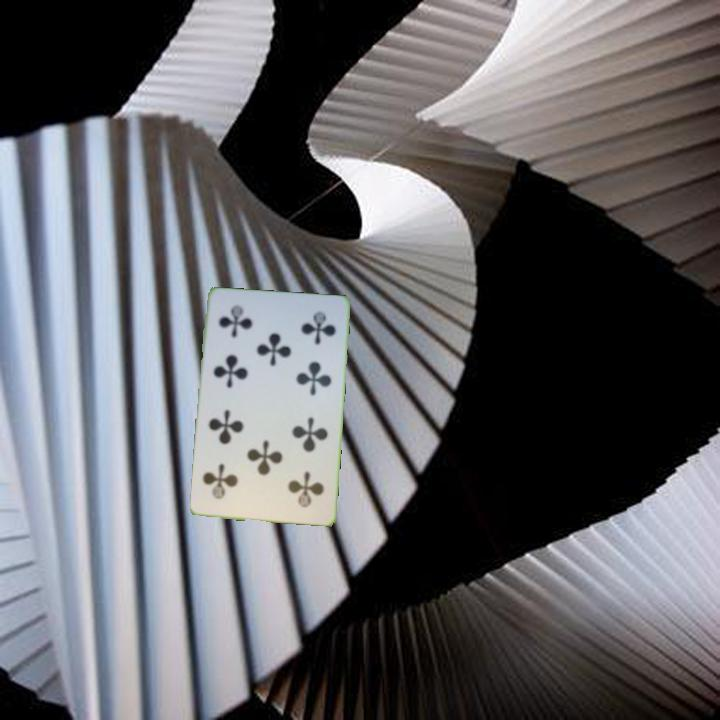c_10.png: (209, 297, 280, 359), (260, 454, 330, 516)
